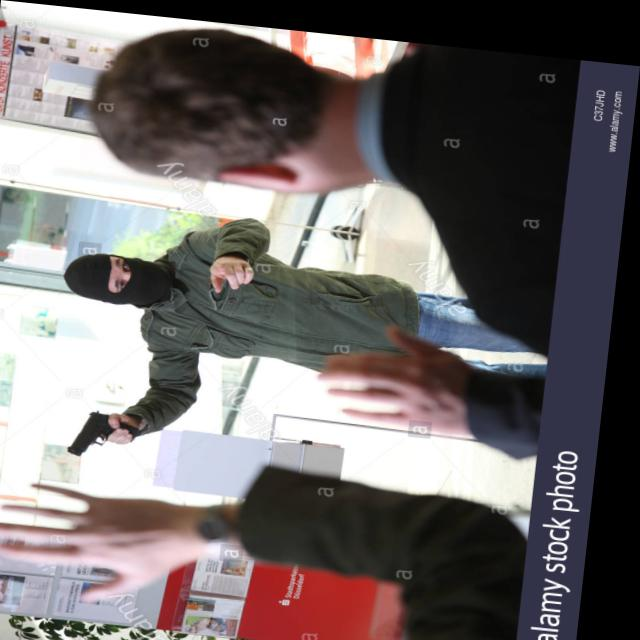handgun: (74, 406, 151, 458)
